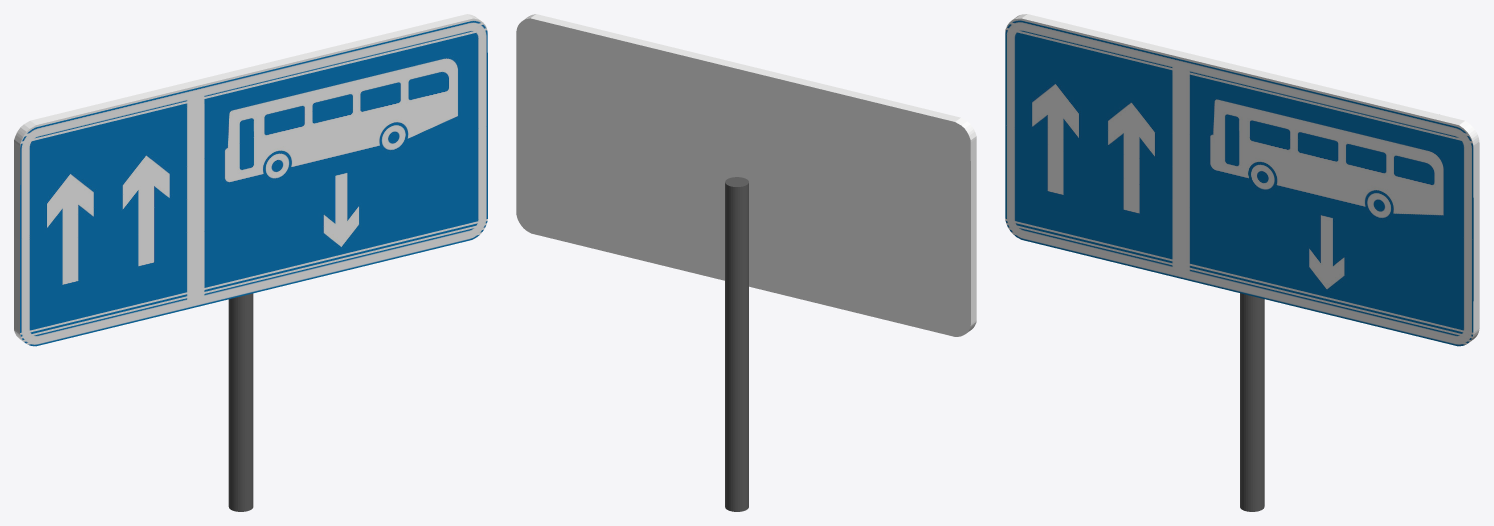
Rendered from SignGivingOrderContraFlowBusLane.obj.
The picture shows the model from 3 angles, left to right: view 1: azimuth 30°, elevation 25°; view 2: azimuth 150°, elevation 25°; view 3: azimuth 330°, elevation 25°; orthographic projection. The views are drawn at different scales.
Parts seen in each view (by area): view 1: Cube, Cylinder.001; view 2: Cube, Cylinder.001; view 3: Cube, Cylinder.001.
Part boxes in pixels (left/top/right/bottom): Cube: left=14, top=14, right=487, bottom=346; Cylinder.001: left=228, top=293, right=253, bottom=511; Cube: left=516, top=14, right=976, bottom=336; Cylinder.001: left=725, top=177, right=748, bottom=511; Cube: left=1005, top=14, right=1479, bottom=346; Cylinder.001: left=1240, top=293, right=1264, bottom=511.
Bounding box in the file's own units: 2.2 × 1.99 × 0.1549.
Materials: 3 (2 with a texture image).
